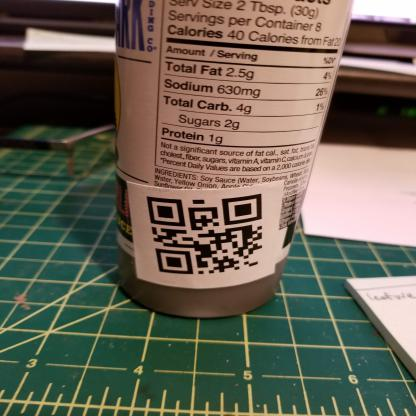qr: (147, 191, 264, 278)
